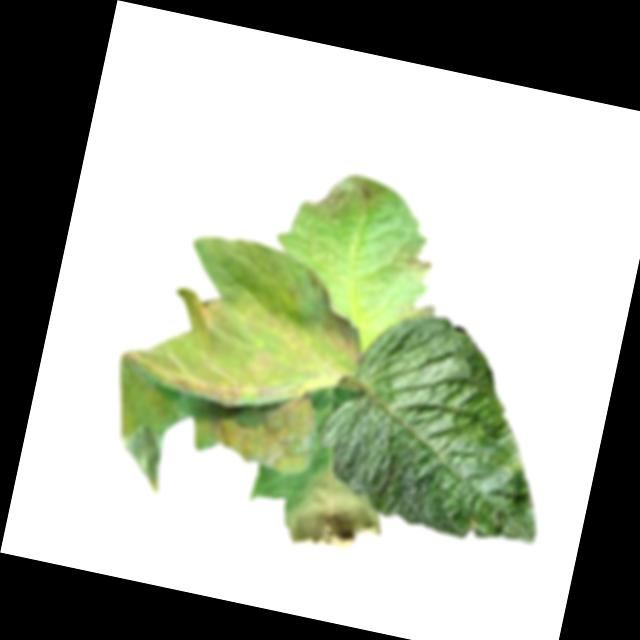Late_blight: (194, 370, 325, 478), (282, 462, 393, 565), (296, 276, 375, 367), (299, 164, 379, 234), (188, 290, 228, 331), (403, 254, 432, 276)
